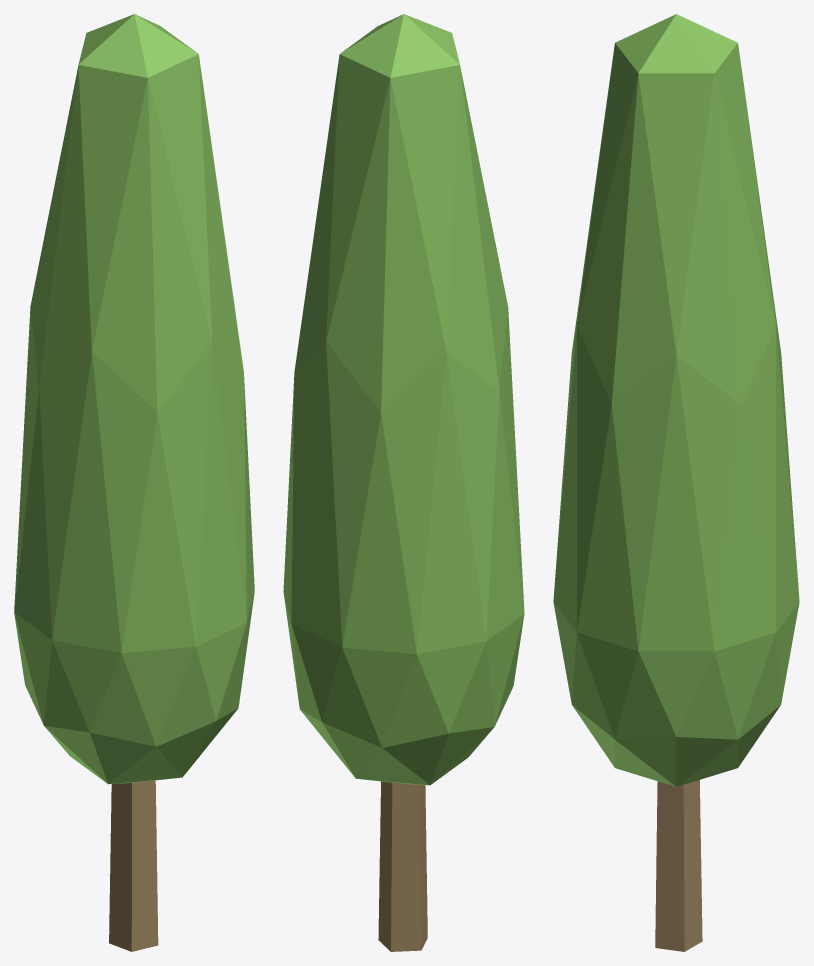
File: Thuja_Tree_m_05.fbx
3 renders of one model, left to right at view 1: azimuth 30°, elevation 25°; view 2: azimuth 150°, elevation 25°; view 3: azimuth 270°, elevation 25°, orthographic.
Parts seen in each view (by area): view 1: Thuja_Tree_m_05; view 2: Thuja_Tree_m_05; view 3: Thuja_Tree_m_05.
Boxes of the visible parts, <box> form: Thuja_Tree_m_05: <box>14,14,254,951</box>; Thuja_Tree_m_05: <box>283,14,524,951</box>; Thuja_Tree_m_05: <box>553,14,799,951</box>.
Size of the model in its own units: 114 by 499 by 120.
